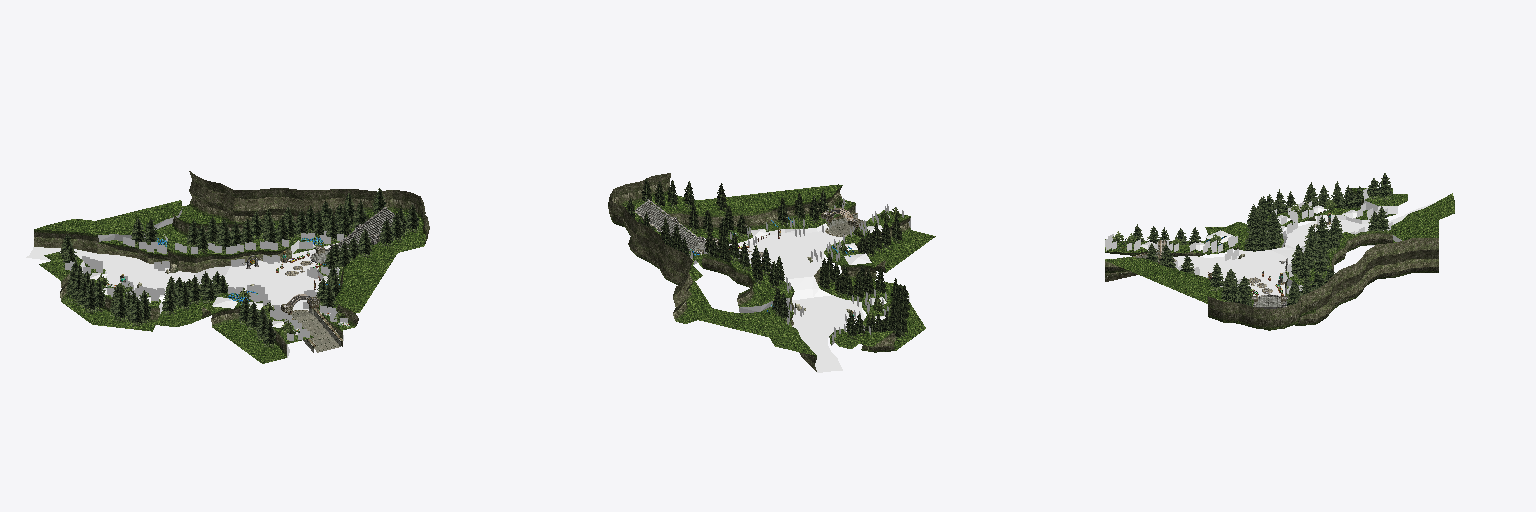
3 renders of one model, left to right at view 1: azimuth 30°, elevation 25°; view 2: azimuth 150°, elevation 25°; view 3: azimuth 270°, elevation 25°, orthographic.
Visible parts, largest first — view 1: Object.38, Object.51, Object.108, Object.113, Object.34, Object.35, Object.46, Object.9, Object.4, Object.14, Object.36, Object.187 (+16 smaller); view 2: Object.4, Object.14, Object.34, Object.12, Object.187, Object.126, Object.38, Object.35, Object.50, Object.111, Object.176, Object.168 (+9 smaller); view 3: Object.108, Object.38, Object.12, Object.34, Object.9, Object.35, Object.36, Object.187, Object.182, Object.170, Object.129, Object.93 (+3 smaller).
Boxes of the visible parts, x1=… form: Object.38: x1=66, y1=264, x2=105, y2=313; Object.51: x1=110, y1=285, x2=151, y2=325; Object.108: x1=197, y1=181, x2=252, y2=216; Object.113: x1=150, y1=223, x2=231, y2=272; Object.34: x1=162, y1=275, x2=201, y2=315; Object.35: x1=186, y1=216, x2=232, y2=253; Object.46: x1=283, y1=202, x2=336, y2=238; Object.9: x1=237, y1=259, x2=306, y2=284; Object.4: x1=108, y1=263, x2=177, y2=289; Object.14: x1=265, y1=276, x2=320, y2=306; Object.36: x1=216, y1=209, x2=276, y2=245; Object.187: x1=319, y1=248, x2=391, y2=281; Object.4: x1=792, y1=301, x2=864, y2=331; Object.14: x1=750, y1=232, x2=825, y2=258; Object.34: x1=835, y1=264, x2=885, y2=300; Object.12: x1=782, y1=259, x2=820, y2=297; Object.187: x1=699, y1=196, x2=771, y2=242; Object.126: x1=697, y1=210, x2=777, y2=229; Object.38: x1=865, y1=300, x2=907, y2=350; Object.35: x1=753, y1=248, x2=784, y2=290; Object.50: x1=865, y1=217, x2=901, y2=256; Object.111: x1=702, y1=255, x2=748, y2=286; Object.176: x1=713, y1=296, x2=786, y2=324; Object.168: x1=829, y1=330, x2=886, y2=348; Object.108: x1=1366, y1=239, x2=1423, y2=279; Object.38: x1=1303, y1=181, x2=1360, y2=208; Object.12: x1=1237, y1=247, x2=1295, y2=267; Object.34: x1=1247, y1=204, x2=1282, y2=245; Object.9: x1=1242, y1=263, x2=1285, y2=288; Object.35: x1=1304, y1=215, x2=1343, y2=252; Object.36: x1=1302, y1=230, x2=1329, y2=274; Object.187: x1=1178, y1=274, x2=1223, y2=297; Object.182: x1=1133, y1=270, x2=1191, y2=290; Object.170: x1=1408, y1=207, x2=1454, y2=232; Object.129: x1=1239, y1=310, x2=1301, y2=329; Object.93: x1=1331, y1=264, x2=1356, y2=304.
Bounding box in the file's own units: 96.5 × 18 × 90.67.
Materials: 23 (20 with a texture image).